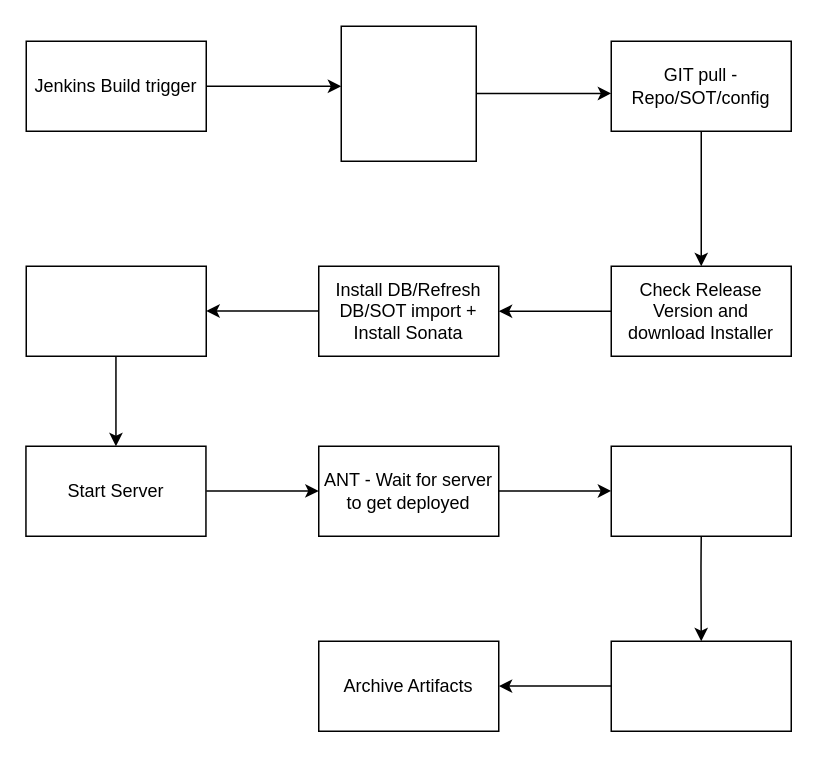
The diagram is 819 pixels wide and 758 high, and some of its shapes have lost their labels. The shapes that lost their labels are listed below. From the top down, each one's centre as x and y in pixels, then its label:
At [408,93]: "Clean VM/Environment".
At [115,310]: "Copy Installer logs and Run prereq SQL".
At [700,490]: "Run Test Complete Test".
At [700,685]: "Export DB".
